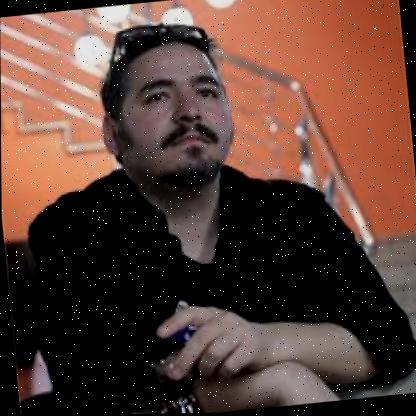person: (91, 11, 242, 194)
